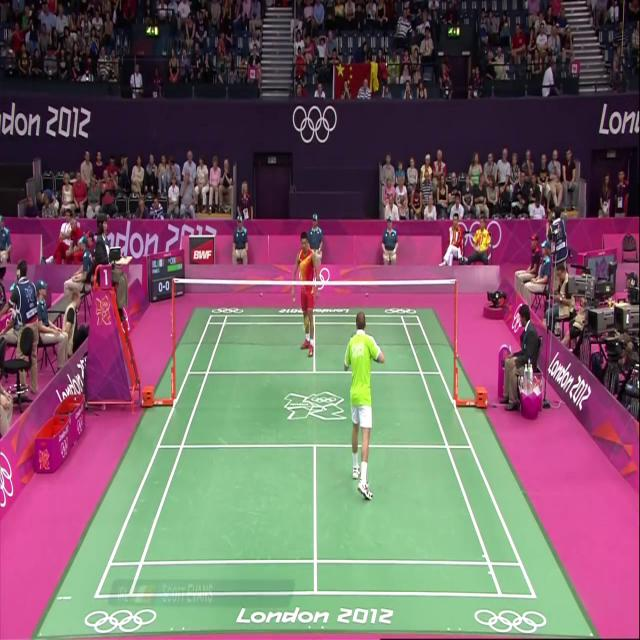Net: (172, 280, 461, 368)
Player1: (346, 288, 386, 510)
Player2: (282, 232, 320, 370)
Shuttlecock: (289, 292, 298, 307)
